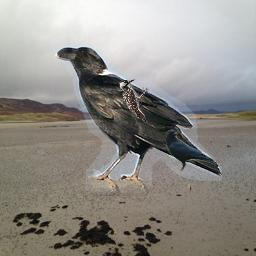Crow: (55, 44, 222, 196), (166, 129, 218, 171)
Woodpecker: (119, 79, 149, 123)
